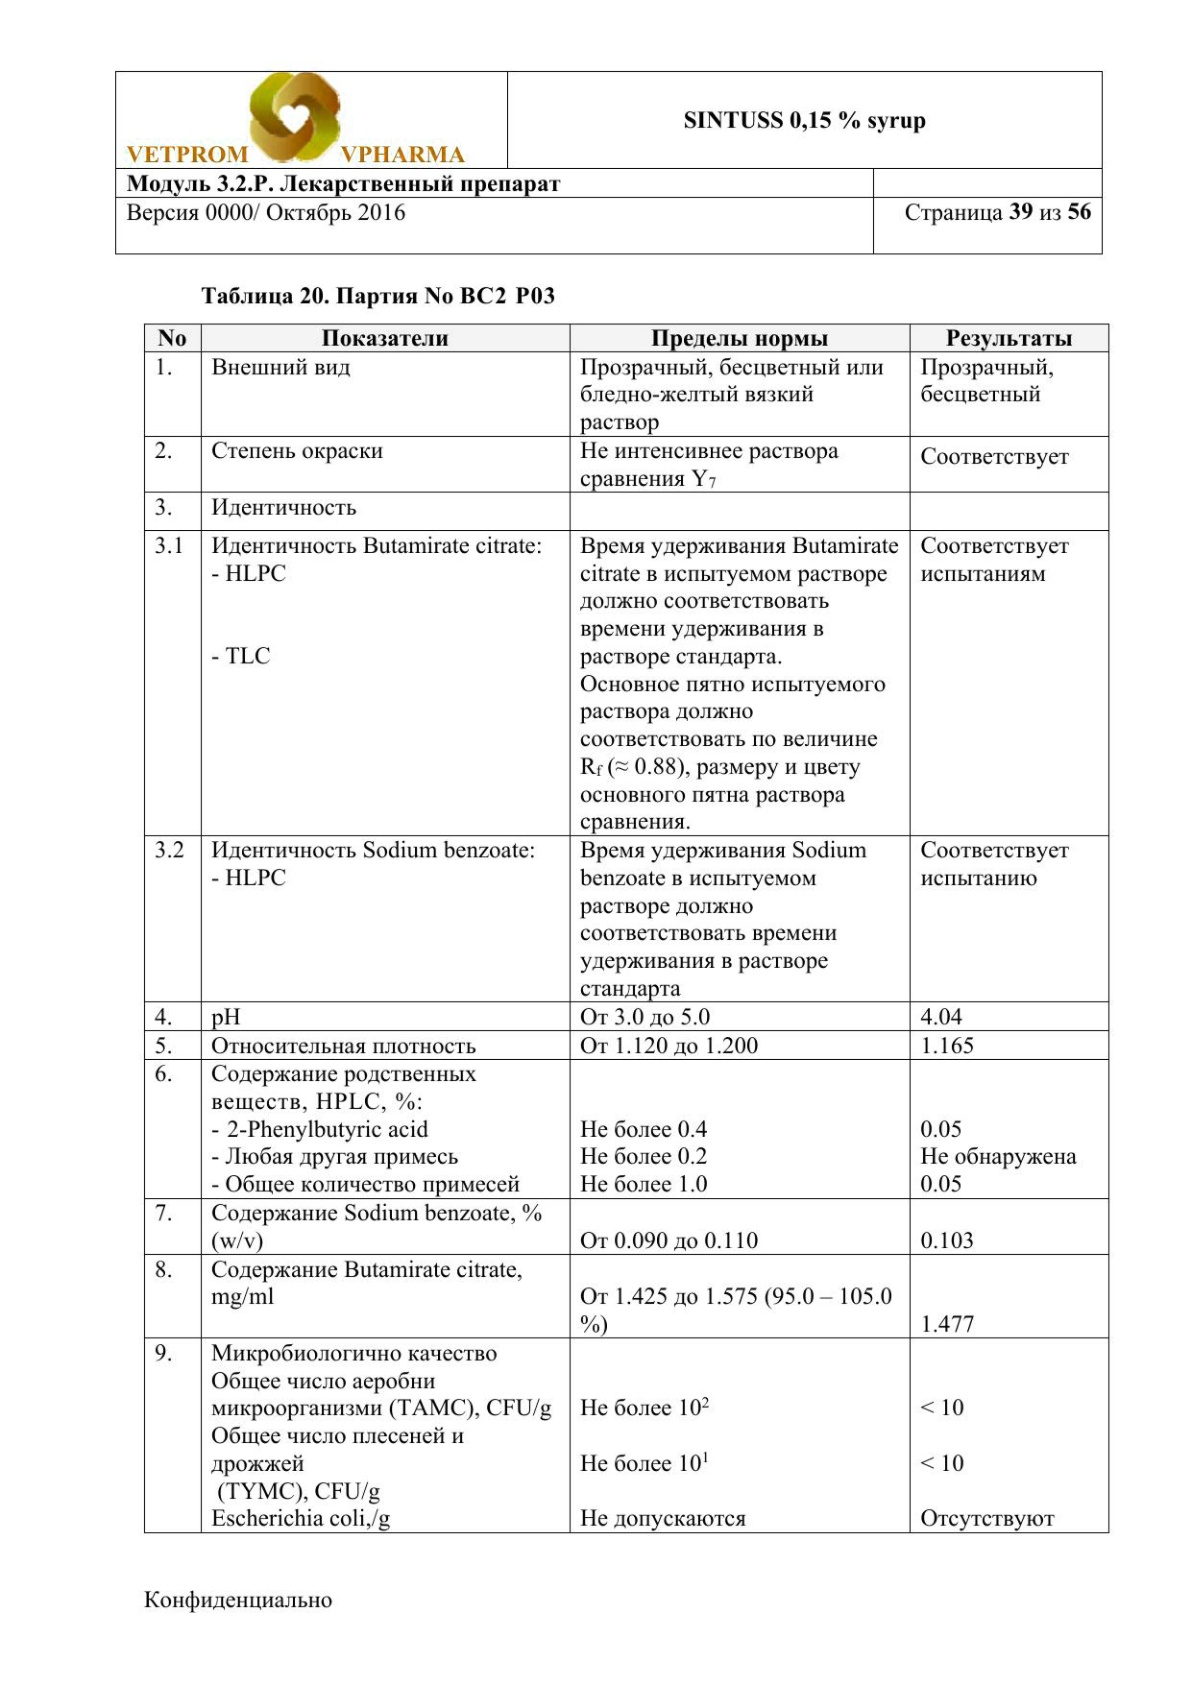full_lined: (143, 323, 1109, 1534)
merged_cells: (114, 68, 1104, 255)
